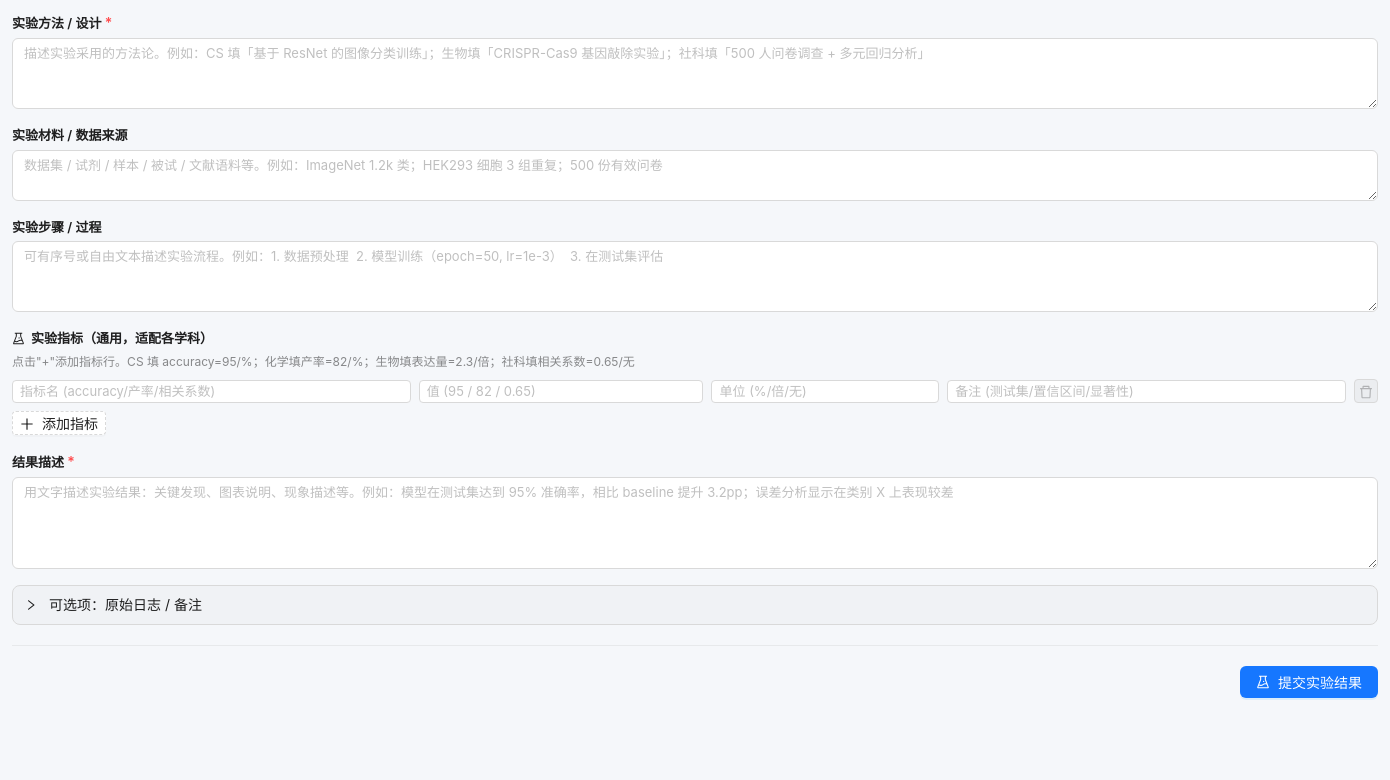
Scenario: components/ExperimentInputForm › 必填校验：仅 methodology 为空时只显示 methodology 错误
In the text box with placeholder "用文字描述实验结果": (695, 523) left=12, top=478, right=1378, bottom=569, type "已填结果"
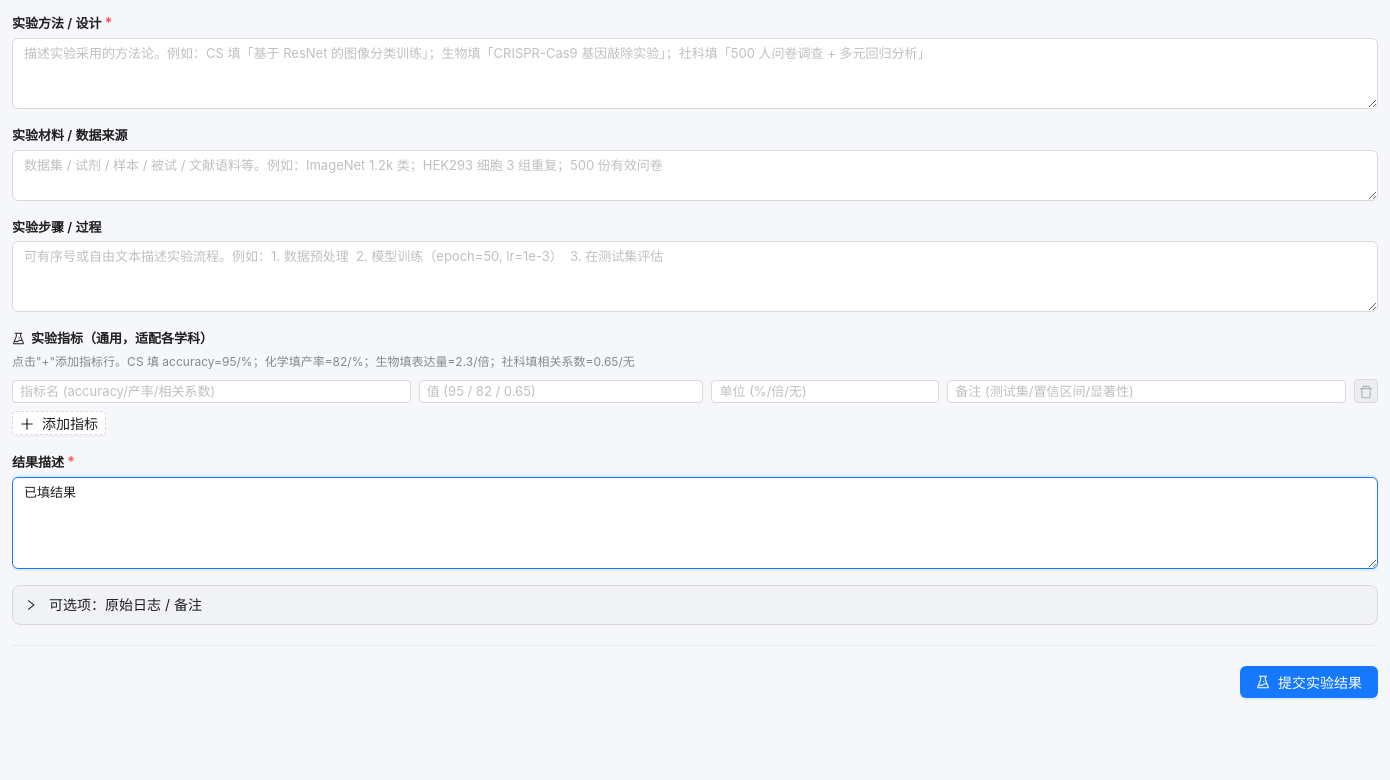
Click the button "提交实验结果": (1309, 682) left=1240, top=666, right=1378, bottom=698
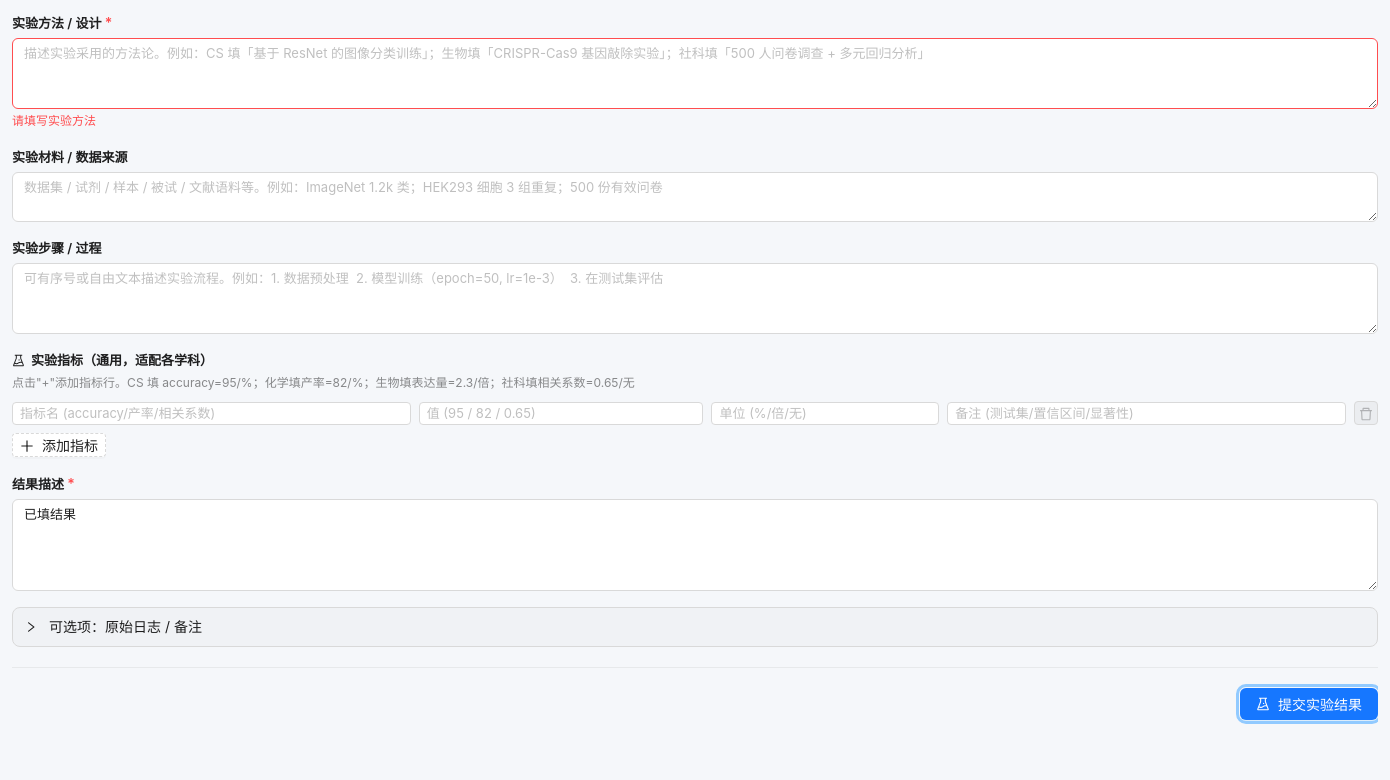
Expected: the text "请填写实验方法" is shown, left=12, top=113, right=96, bottom=128
